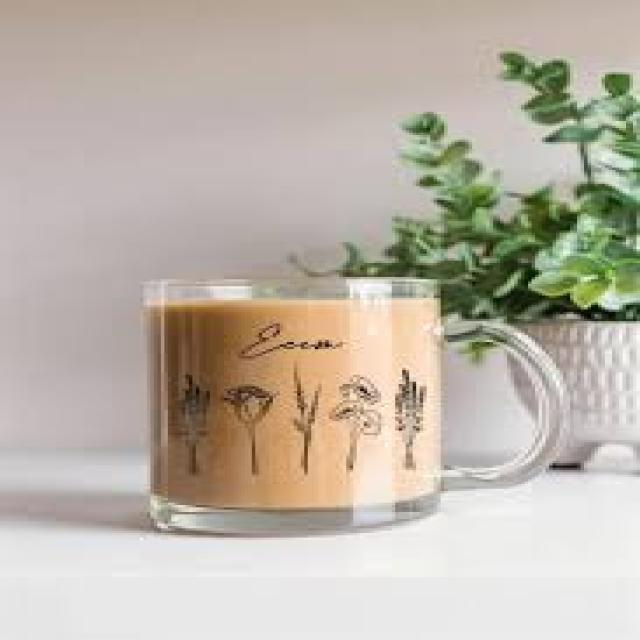taza: (138, 276, 569, 540)
